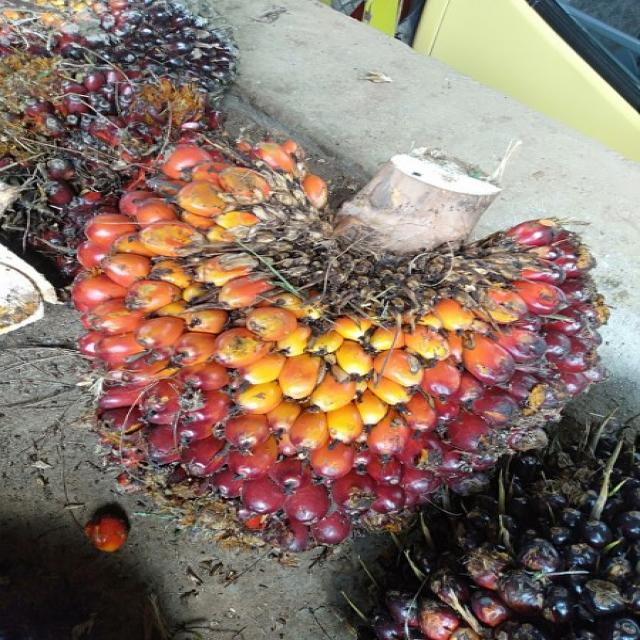fraksi 00: (0, 0, 289, 268)
fraksi 3: (32, 92, 640, 583)
